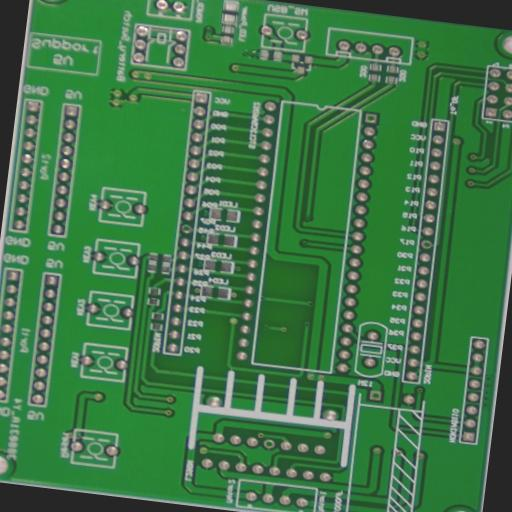missing_hole: (364, 112, 378, 123), (420, 238, 434, 249), (180, 224, 194, 234), (370, 389, 382, 400), (263, 438, 276, 448)
